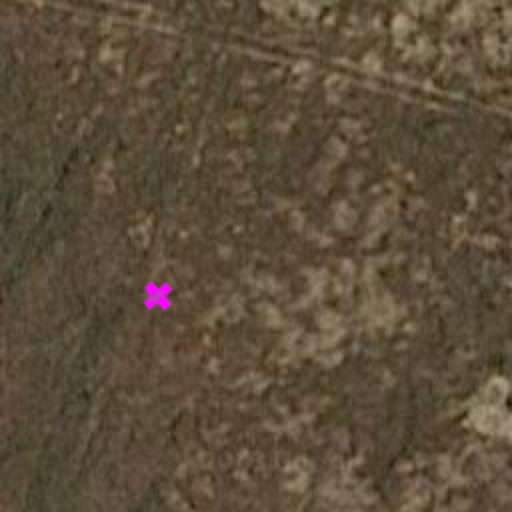cross: (136, 274, 180, 318)
